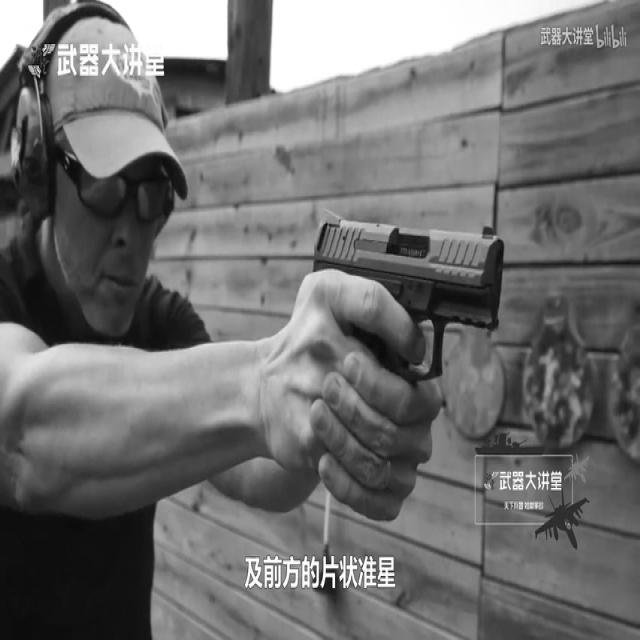Hand-Gun: (266, 142, 551, 513)
